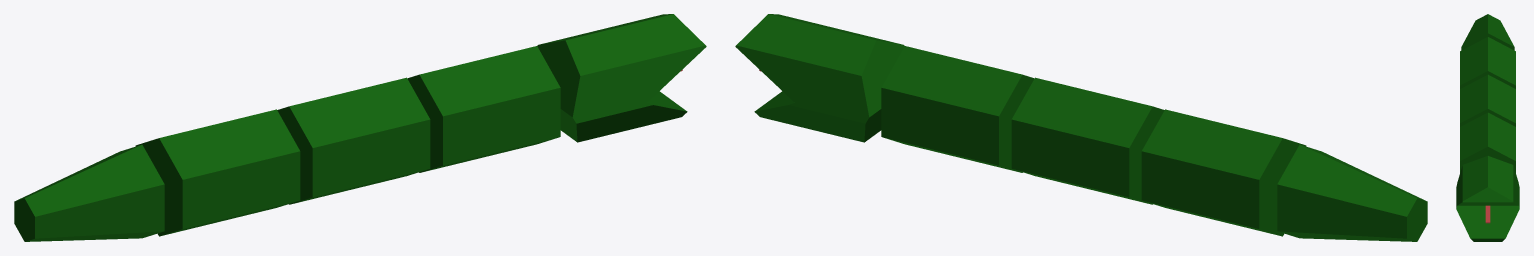
File: snake.fbx
3 renders of one model, left to right at view 1: azimuth 30°, elevation 25°; view 2: azimuth 150°, elevation 25°; view 3: azimuth 270°, elevation 25°, orthographic. The views are drawn at different scales.
Parts seen in each view (by area): view 1: seg3, Cylinder_2, seg1, seg2, seg4, Pyramid_2; view 2: seg3, Cylinder_2, seg1, seg2, seg4, Pyramid_2; view 3: seg1, Cylinder_2, seg2, seg3, Pyramid_4, seg4, Pyramid_3, Pyramid, Cube.
Part boxes in pixels (<box>): seg3: <box>135,109,300,236</box>; Cylinder_2: <box>537,14,706,142</box>; seg1: <box>407,46,560,172</box>; seg2: <box>277,77,430,204</box>; seg4: <box>14,144,164,241</box>; Pyramid_2: <box>560,109,577,142</box>; seg3: <box>1141,109,1306,236</box>; Cylinder_2: <box>735,14,904,142</box>; seg1: <box>881,46,1034,172</box>; seg2: <box>1011,77,1164,204</box>; seg4: <box>1277,144,1427,241</box>; Pyramid_2: <box>864,109,881,142</box>; seg1: <box>1460,112,1515,172</box>; Cylinder_2: <box>1456,156,1519,241</box>; seg2: <box>1460,74,1515,126</box>; seg3: <box>1460,37,1515,88</box>; Pyramid_4: <box>1456,206,1519,238</box>; seg4: <box>1461,14,1514,50</box>; Pyramid_3: <box>1462,187,1513,202</box>; Pyramid: <box>1457,202,1518,205</box>; Cube: <box>1485,205,1490,223</box>.
Size of the model in its own units: 421 by 60 by 58.5.
